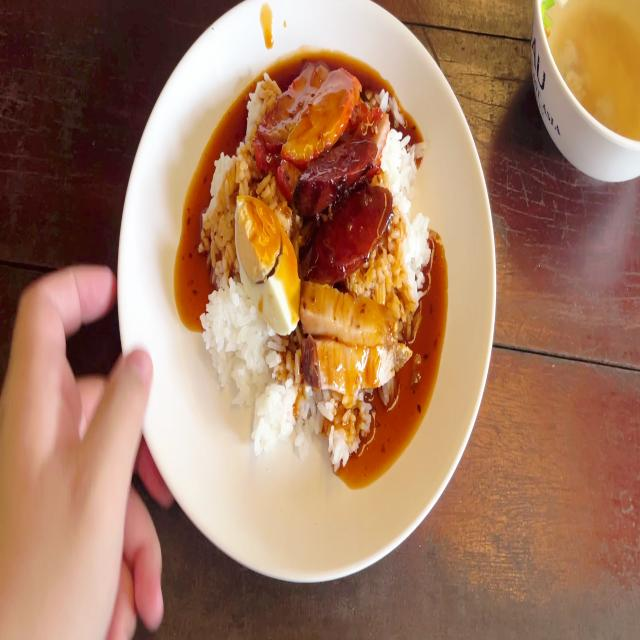boiled_egg: (234, 204, 302, 341)
chainese_sausage: (303, 132, 389, 277)
crispy_pork: (302, 288, 409, 389)
red_pork: (264, 59, 346, 151)
red_pork_and_crispy_pork: (200, 62, 430, 454)
rice: (384, 137, 430, 309), (202, 279, 262, 405), (251, 344, 320, 434), (208, 133, 237, 275)
